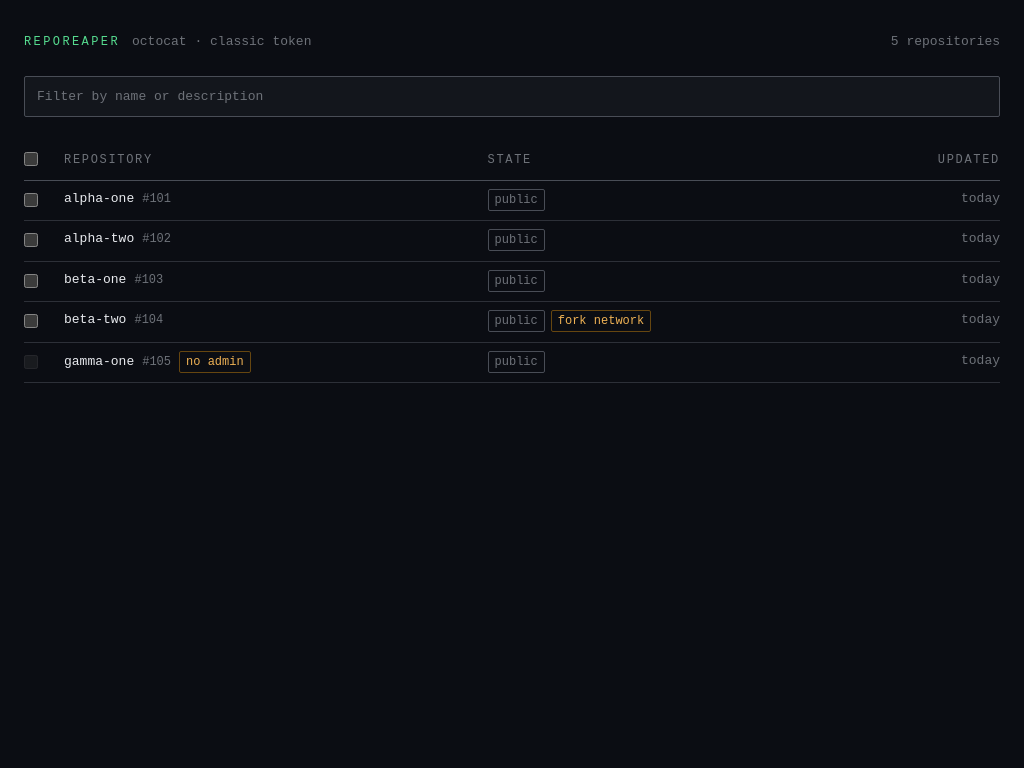
Scenario: confirmation gate › does not claim archiving is irreversible
Click the checkbox named "Select beta-two" at (31, 321), box x1=24 y1=314 x2=38 y2=328
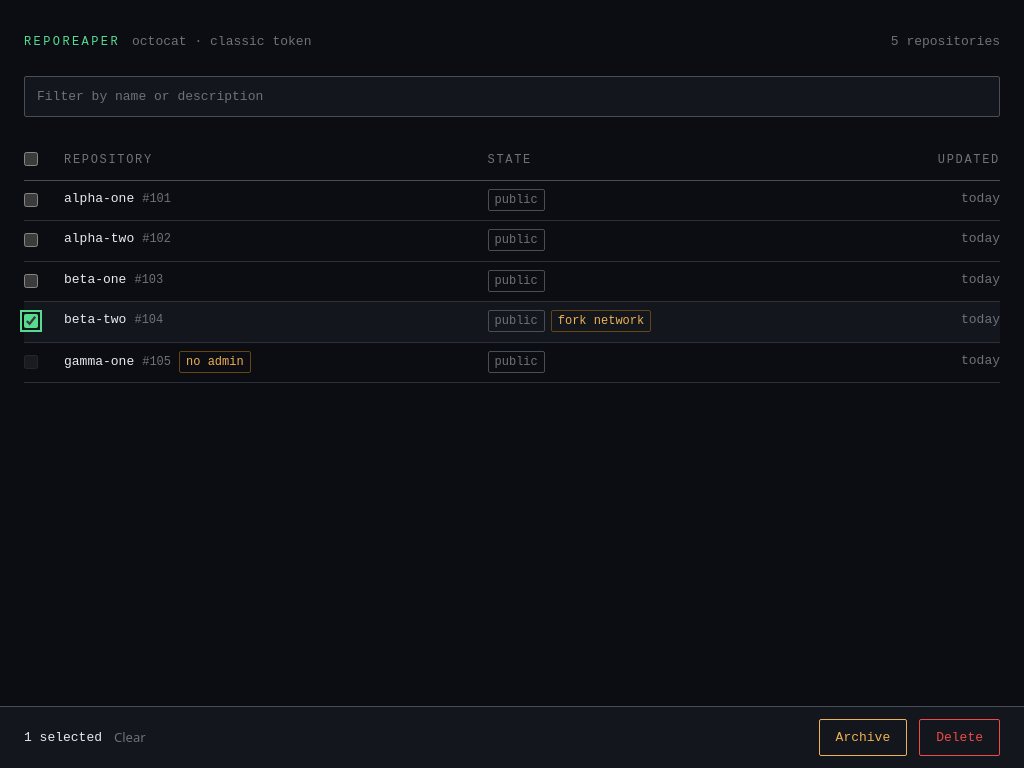
Click the button "Archive" at (863, 737), box x1=819 y1=718 x2=907 y2=756
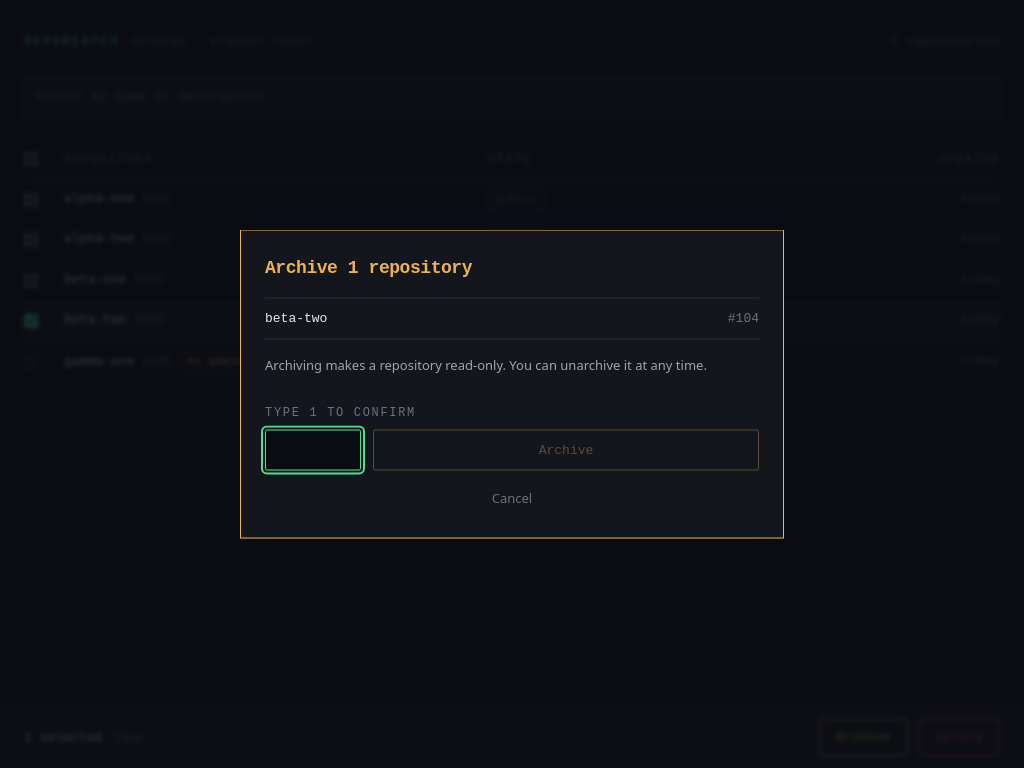
Result: the text "unarchive it at any time" is shown at x1=265 y1=355 x2=707 y2=373
